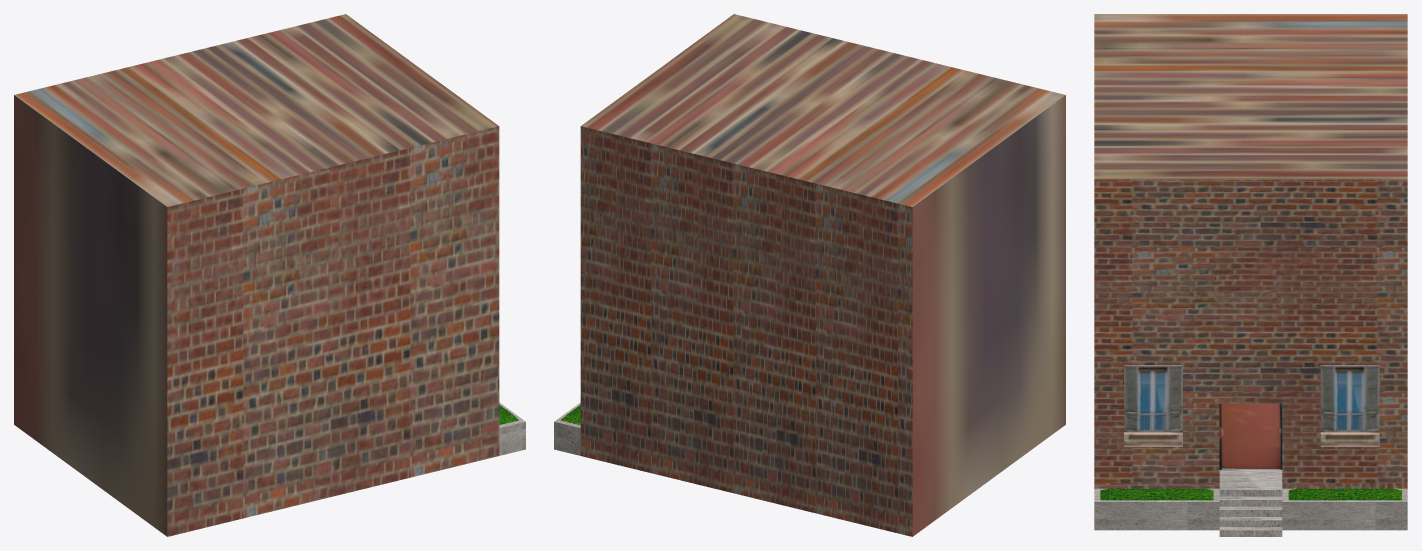
The model's file is building1.fbx.
3 views of the same model, side by side, from view 1: azimuth 30°, elevation 25°; view 2: azimuth 150°, elevation 25°; view 3: azimuth 270°, elevation 25° (orthographic). The views are drawn at different scales.
Visible parts, largest first — view 1: Cube, Cube.001; view 2: Cube, Cube.002; view 3: Cube, Cube.001, Cube.002, Cube.004, Cube.003.
Boxes of the visible parts, x1,y1,x2,y2 form: Cube: [14, 14, 499, 536]; Cube.001: [499, 402, 525, 455]; Cube: [580, 14, 1065, 536]; Cube.002: [554, 402, 580, 455]; Cube: [1094, 14, 1407, 536]; Cube.001: [1094, 488, 1219, 530]; Cube.002: [1282, 488, 1407, 530]; Cube.004: [1320, 365, 1379, 446]; Cube.003: [1124, 365, 1182, 446].
Size of the model in its own units: 2800 by 2374 by 2000.
